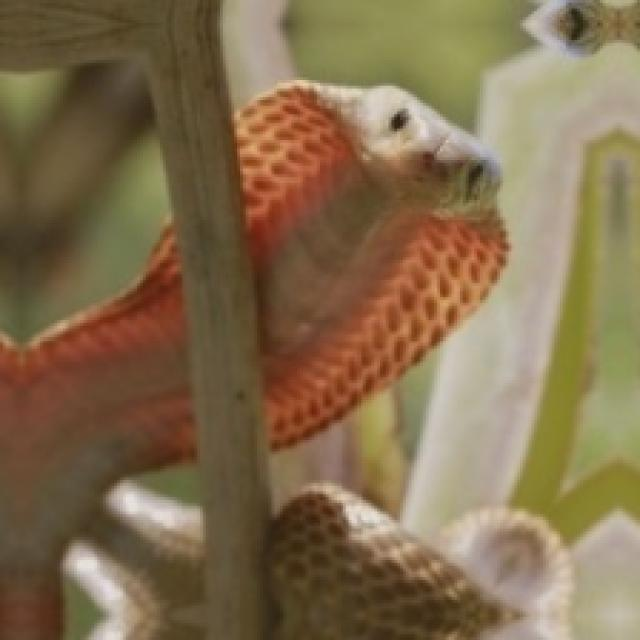philippine cobra: (234, 80, 506, 446), (0, 229, 191, 637), (272, 484, 571, 640), (66, 482, 204, 639)
